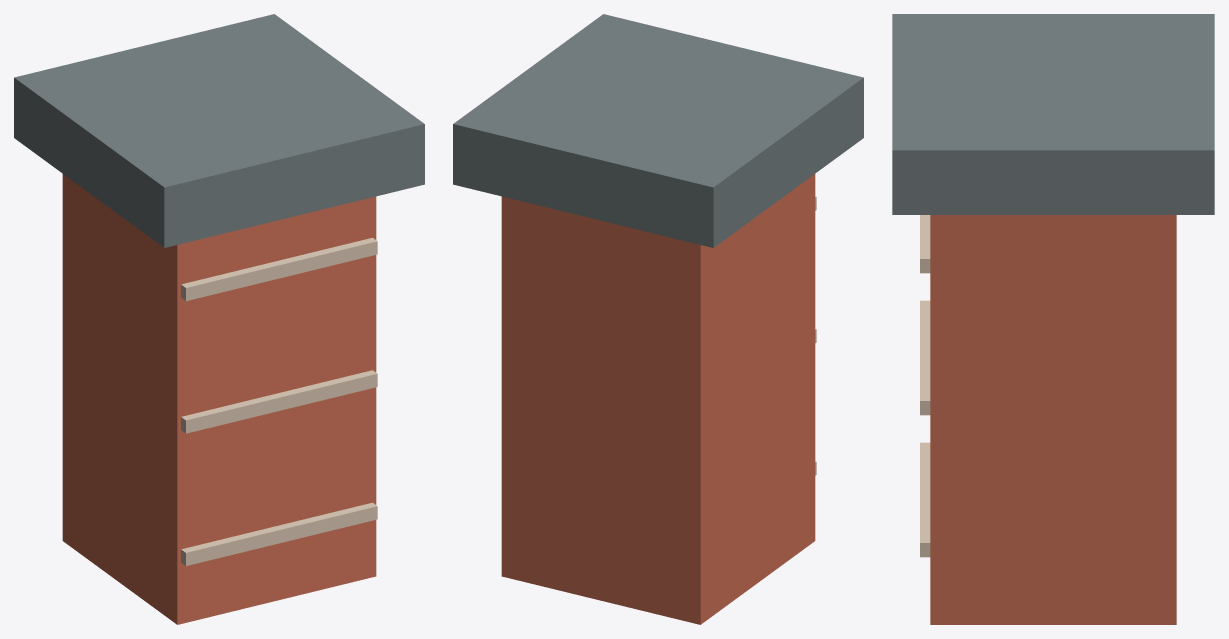
Rendered from bp_decorchimney.glb.
The picture shows the model from 3 angles, left to right: view 1: azimuth 30°, elevation 25°; view 2: azimuth 150°, elevation 25°; view 3: azimuth 270°, elevation 25°; orthographic projection. The views are drawn at different scales.
Parts seen in each view (by area): view 1: Stack, Cap, Mortar.001, Mortar, Mortar.002; view 2: Stack, Cap; view 3: Stack, Cap, Mortar, Mortar.001, Mortar.002.
Part boxes in pixels (x1,y1,x2,y2): Stack: [62, 174, 376, 624]; Cap: [14, 14, 424, 247]; Mortar.001: [181, 370, 377, 433]; Mortar: [181, 502, 377, 565]; Mortar.002: [181, 237, 377, 301]; Stack: [501, 174, 815, 624]; Cap: [453, 14, 863, 247]; Stack: [930, 215, 1176, 624]; Cap: [892, 14, 1214, 214]; Mortar: [920, 442, 930, 557]; Mortar.001: [920, 300, 930, 415]; Mortar.002: [920, 215, 930, 273].
Size of the model in its own units: 0.72 by 1.21 by 0.72.
